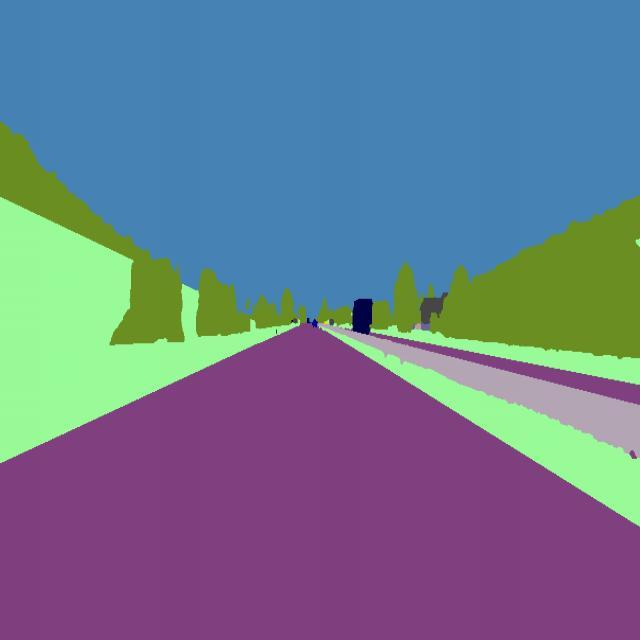safe: (350, 295, 376, 340), (308, 312, 322, 332)
